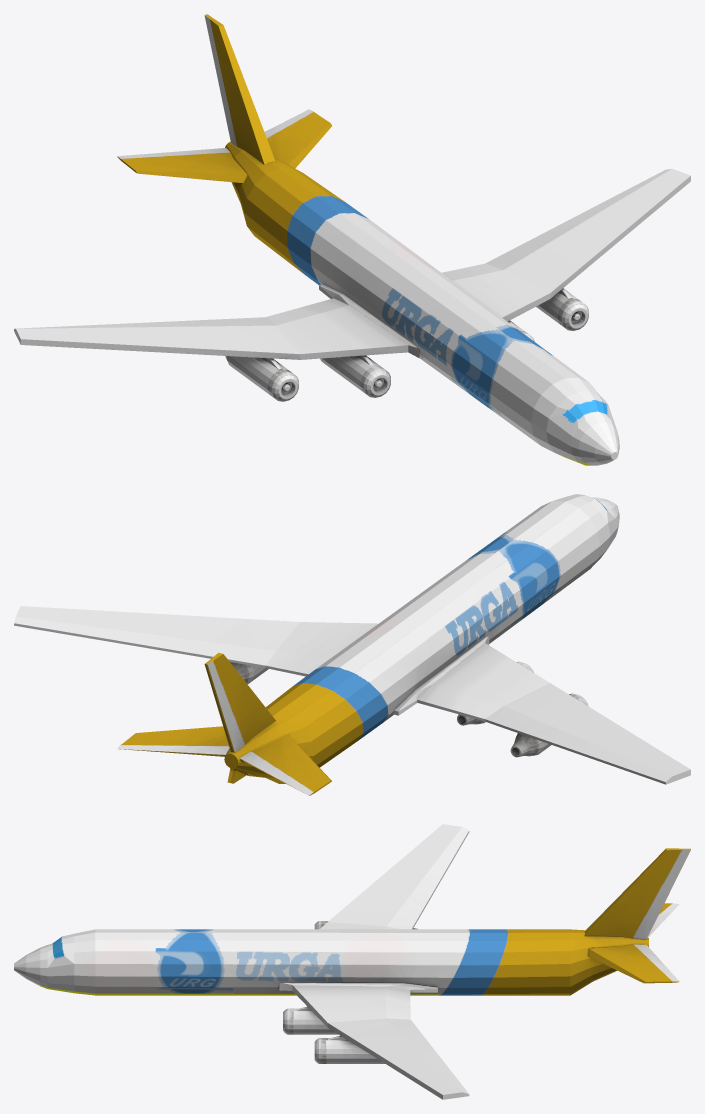
File: Big_plane.obj
3 views of the same model, one above another, from view 1: azimuth 30°, elevation 25°; view 2: azimuth 150°, elevation 25°; view 3: azimuth 270°, elevation 25° (orthographic). The views are drawn at different scales.
Visible parts, largest first — view 1: Cylinder.002_Cylinder.003, Cube.001_Cube.002, Cube_Cube.001, Cylinder.001_Cylinder, Cylinder.003_Cylinder.004; view 2: Cylinder.002_Cylinder.003, Cube.001_Cube.002, Cube_Cube.001, Cylinder.001_Cylinder; view 3: Cylinder.002_Cylinder.003, Cube.001_Cube.002, Cube_Cube.001, Cylinder.001_Cylinder, Cylinder.003_Cylinder.004.
Part boxes in pixels (<box>): Cylinder.002_Cylinder.003: <box>225,141,619,465</box>; Cube.001_Cube.002: <box>14,169,690,359</box>; Cube_Cube.001: <box>117,14,331,183</box>; Cylinder.001_Cylinder: <box>225,288,588,401</box>; Cylinder.003_Cylinder.004: <box>320,320,534,397</box>; Cylinder.002_Cylinder.003: <box>224,494,619,783</box>; Cube.001_Cube.002: <box>14,606,690,784</box>; Cube_Cube.001: <box>117,652,331,795</box>; Cylinder.001_Cylinder: <box>230,662,588,757</box>; Cylinder.002_Cylinder.003: <box>14,929,648,995</box>; Cube.001_Cube.002: <box>278,824,469,1099</box>; Cube_Cube.001: <box>584,848,690,983</box>; Cylinder.001_Cylinder: <box>314,921,417,1063</box>; Cylinder.003_Cylinder.004: <box>283,1006,338,1034</box>.
Size of the model in its own units: 54.26 by 14.46 by 57.28.
5 materials, 5 textured.
